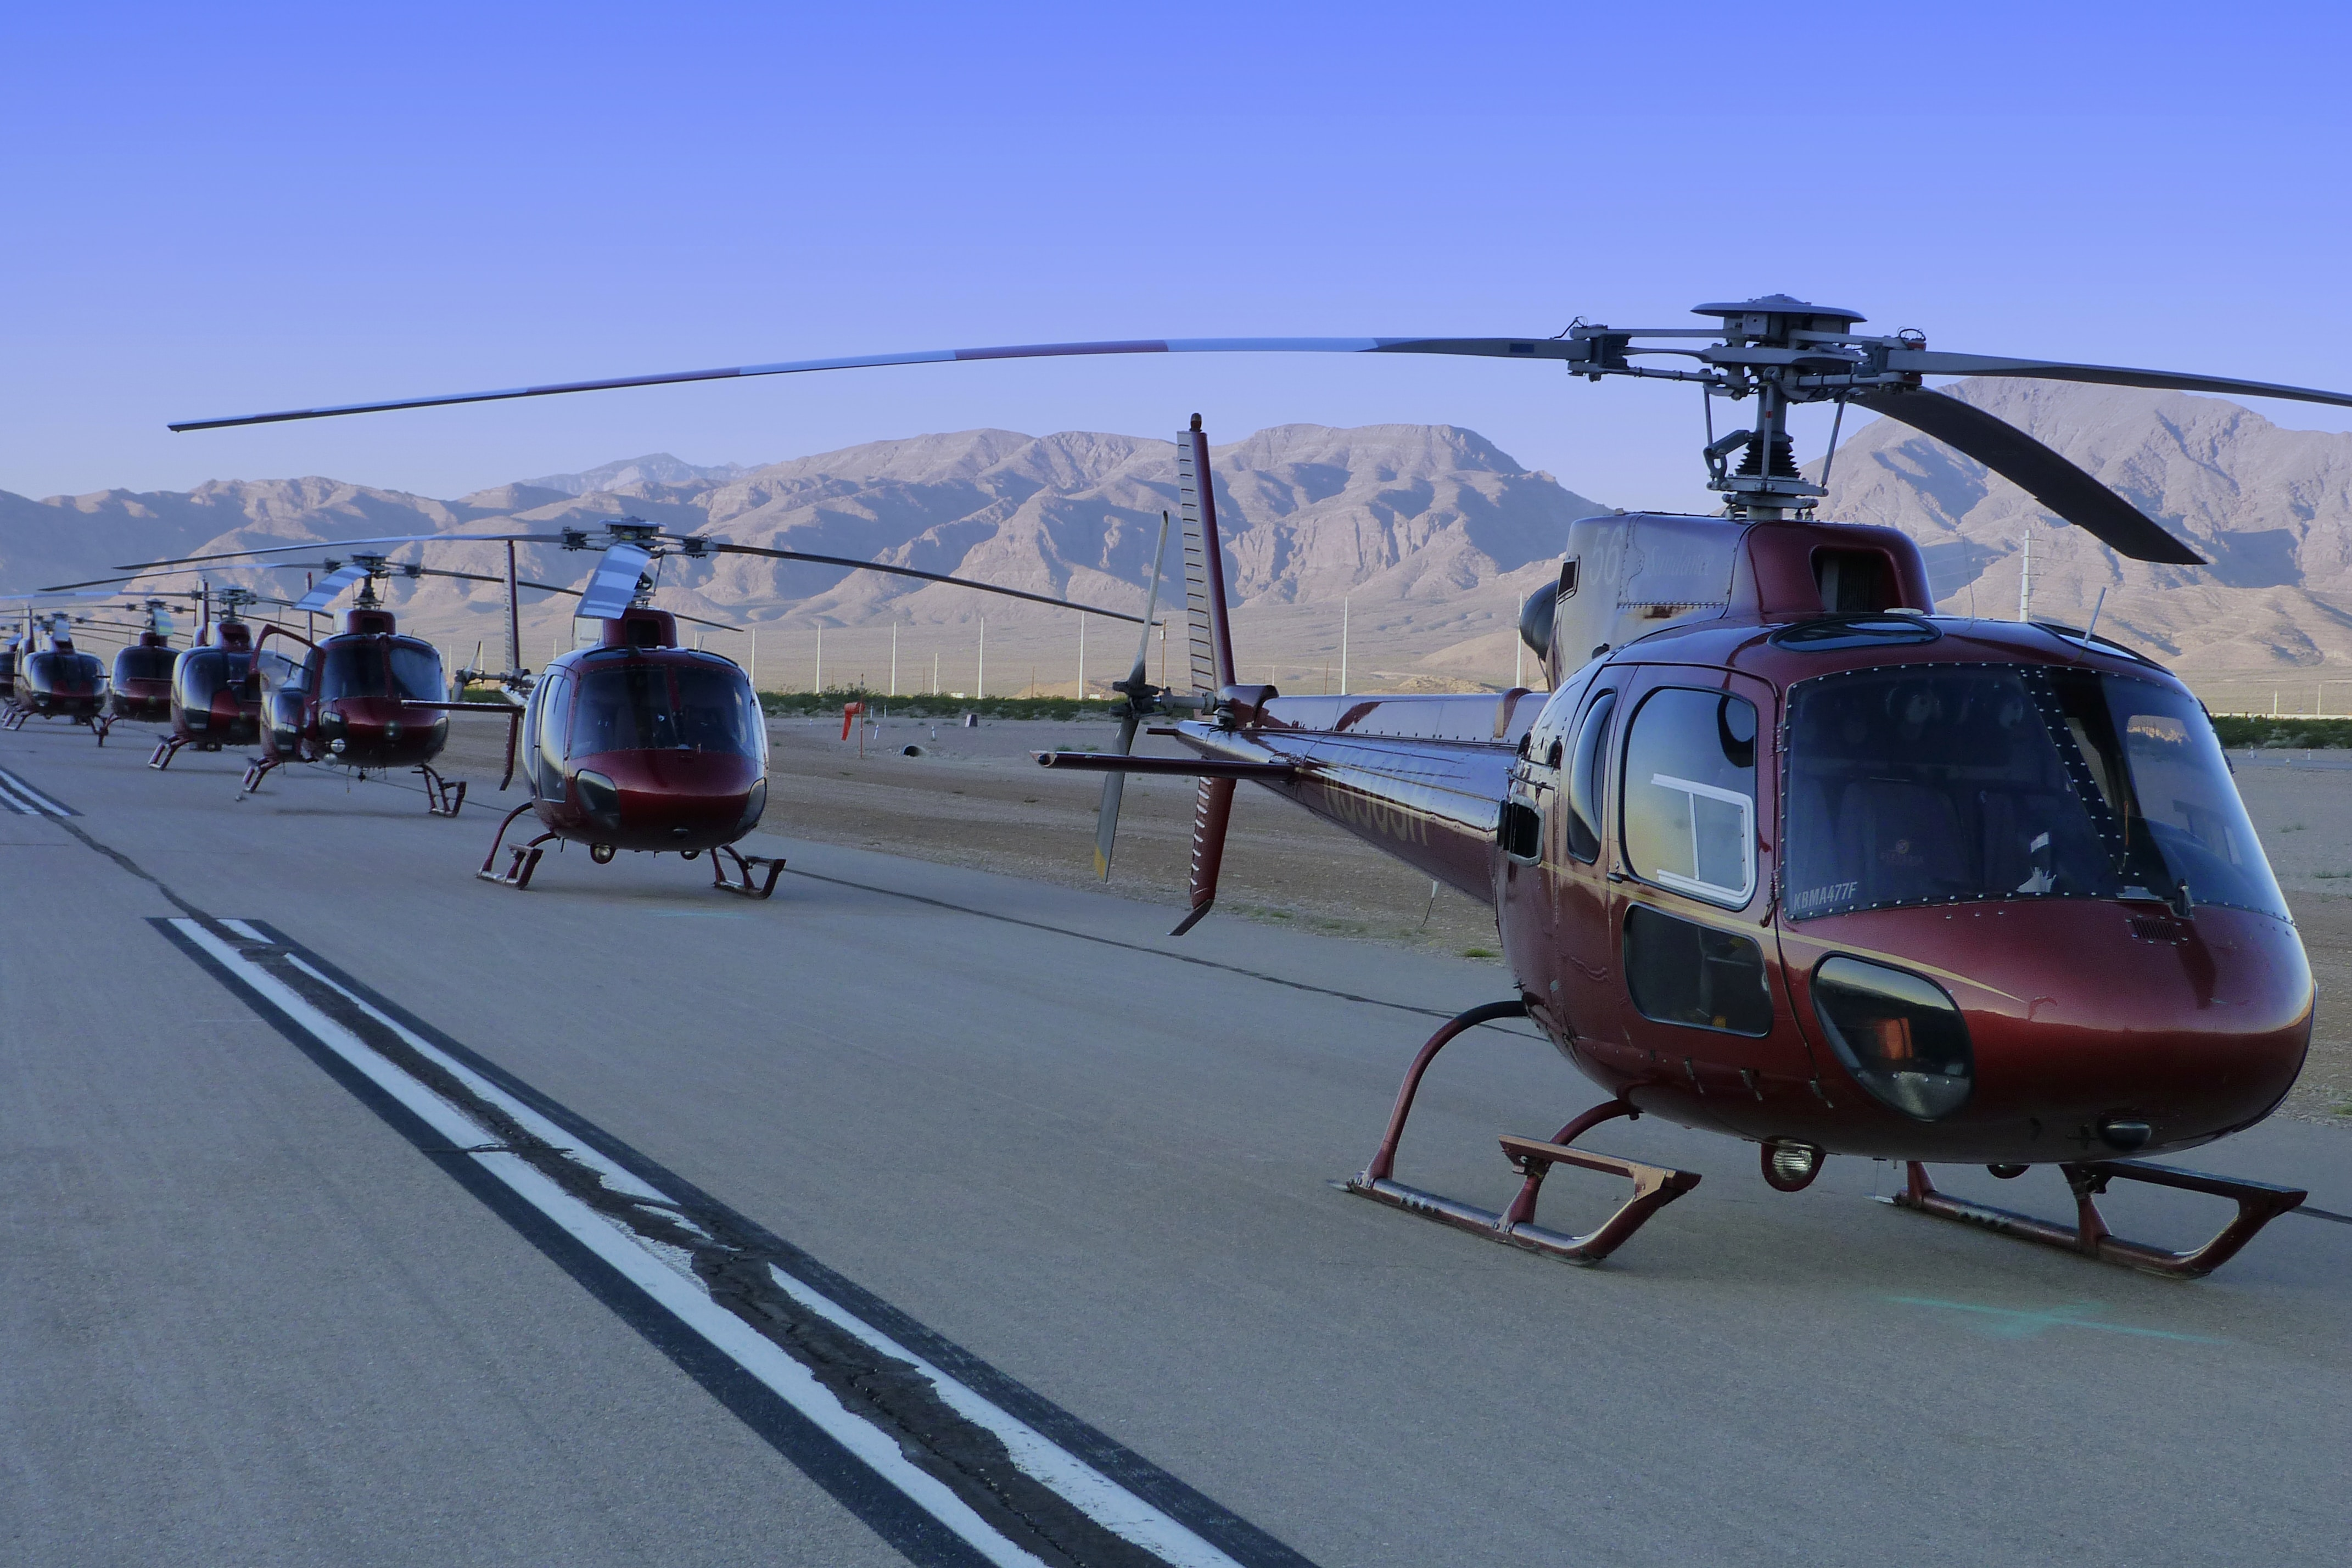helicopter: (819, 84, 2352, 1377)
